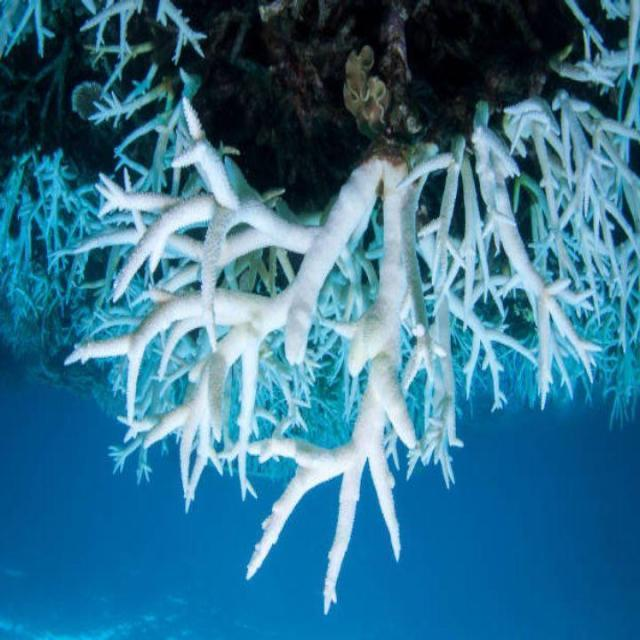Bleached: (67, 97, 640, 618)
